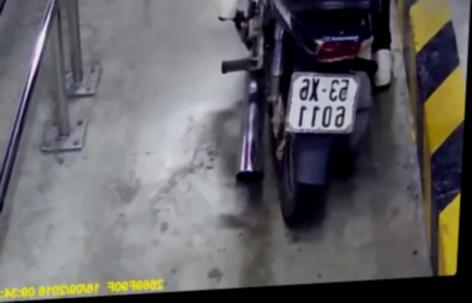License_Plate: (280, 69, 366, 142)
